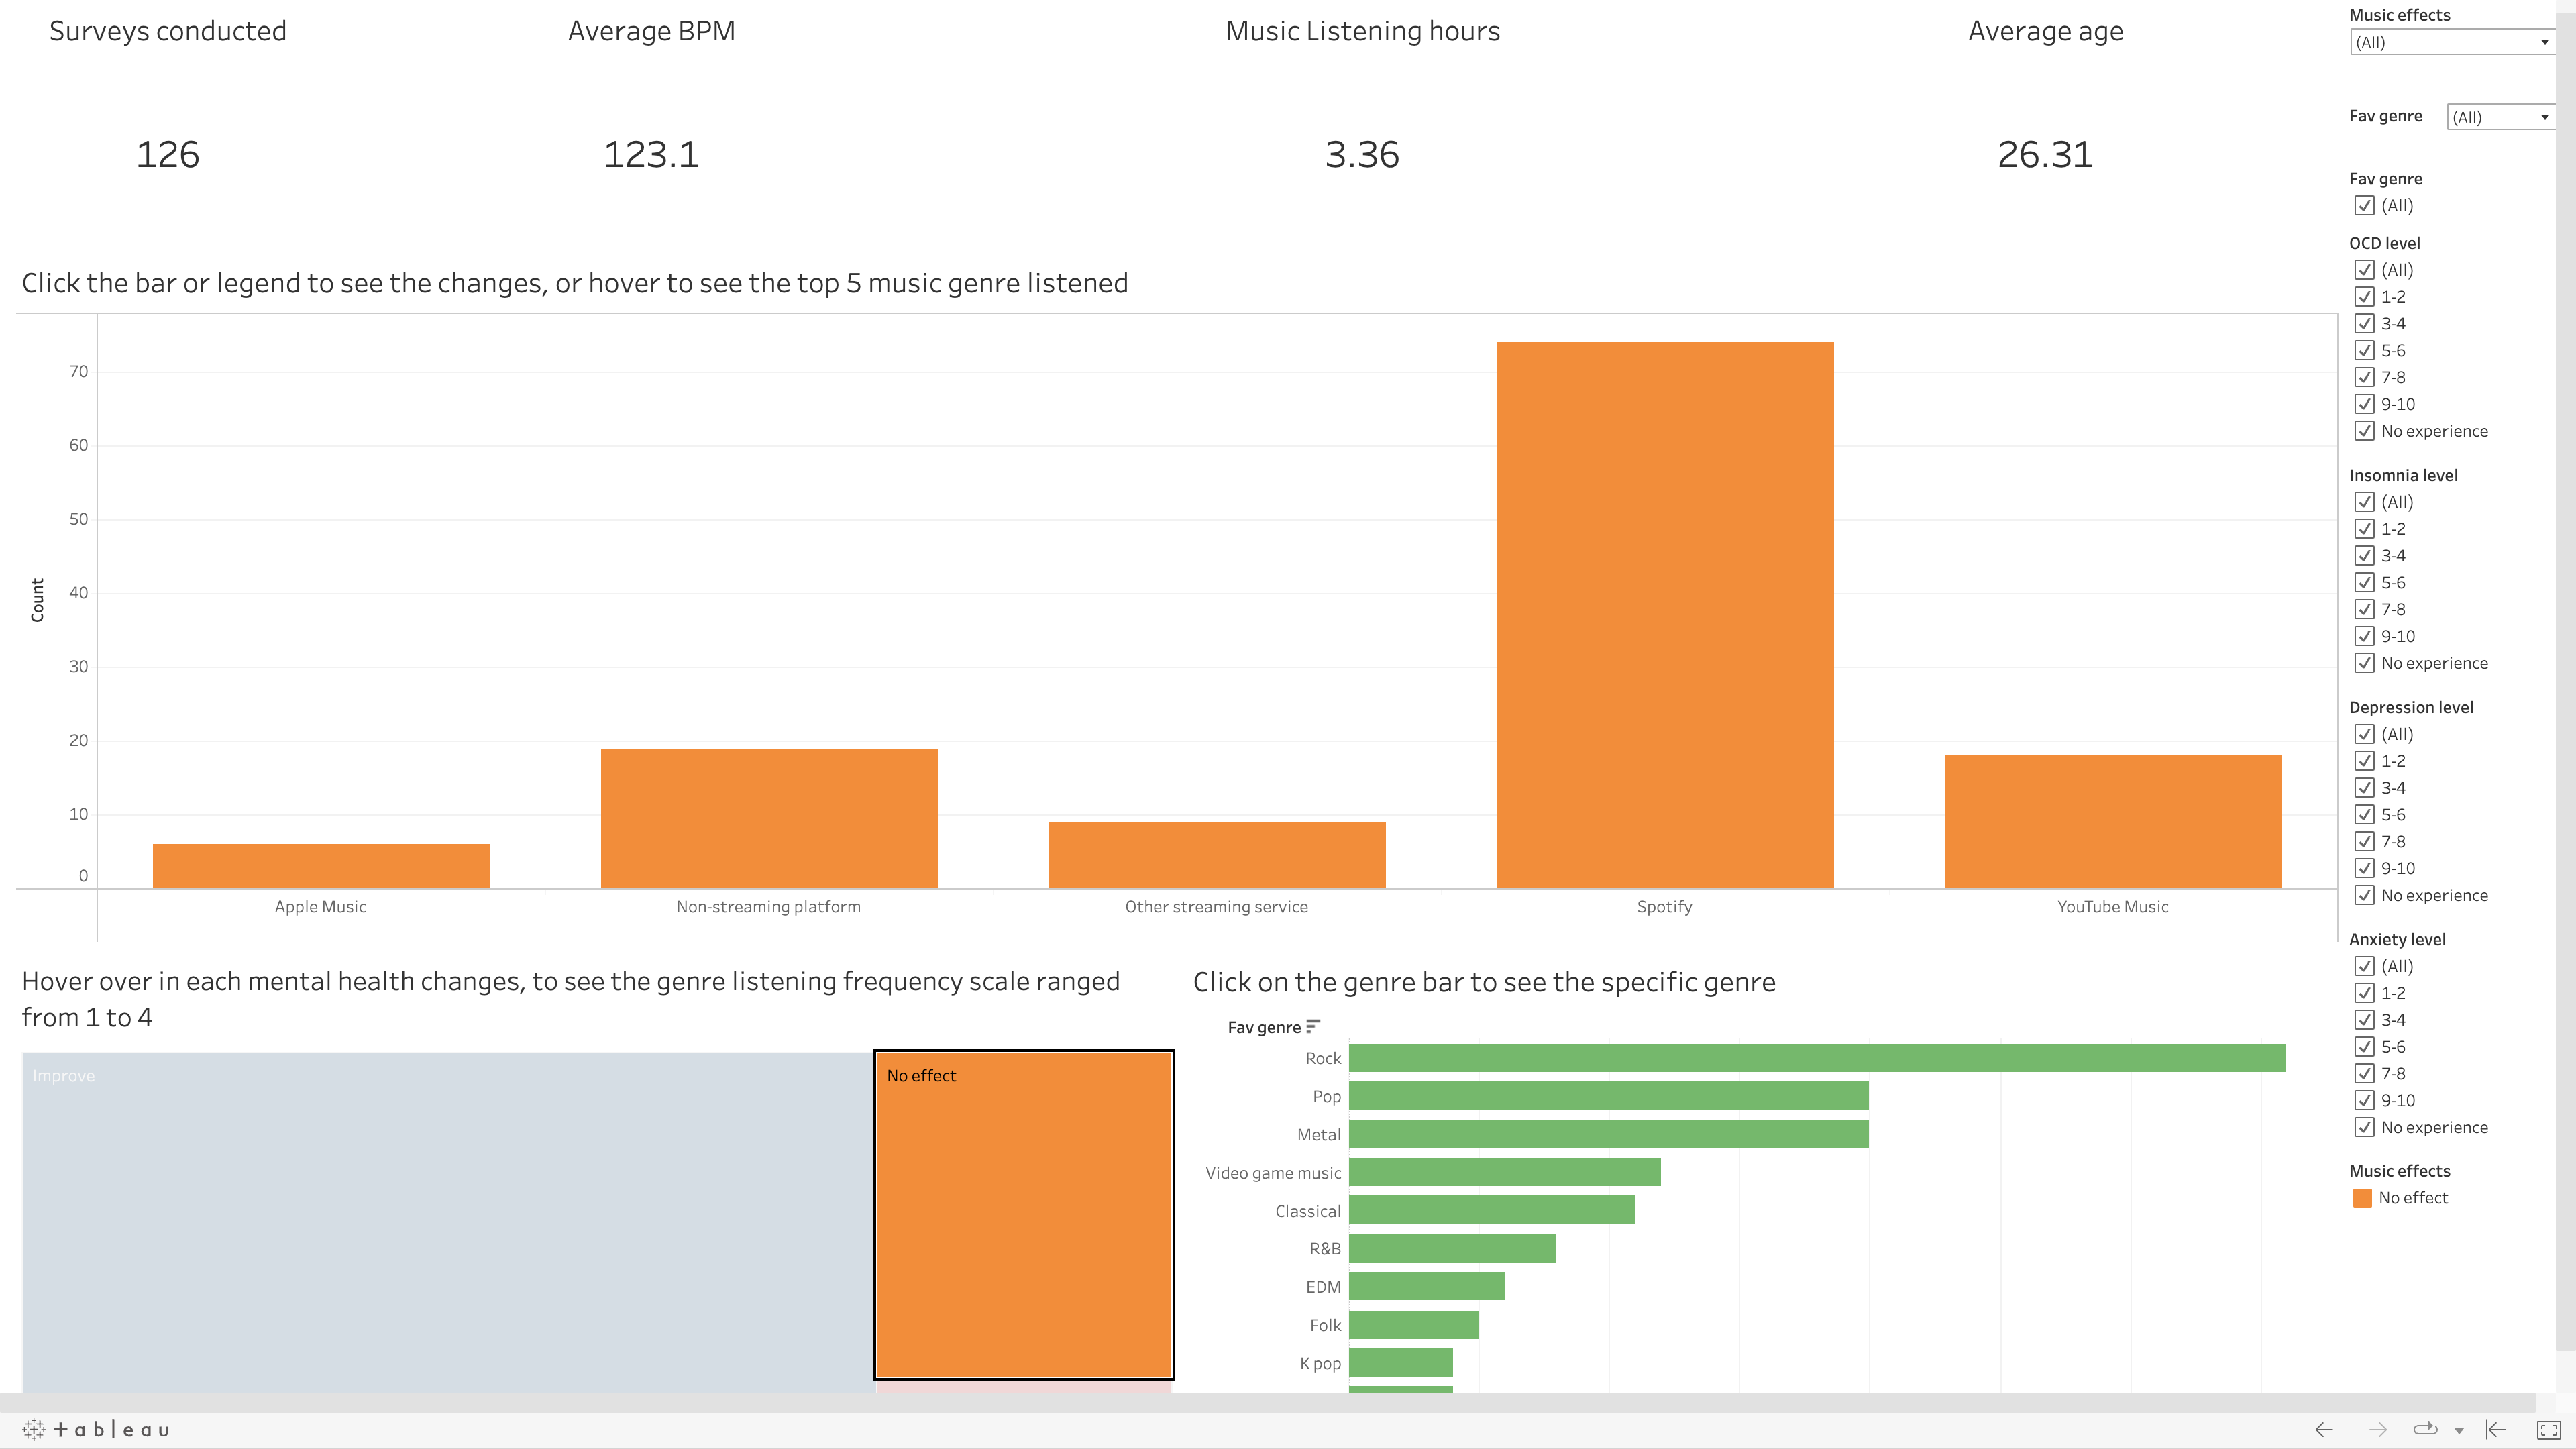

The page's visual inventory and layout, read from the dashboard file:
{"tool":"tableau","page":{"name":"Music dashboard","canvas":[1000,1000],"units":"permille","ordinal":0},"visuals":[{"type":"worksheet","title":"Surveys conducted","mark":"Automatic","box":[3.5,6.3,102.3,140.3]},{"type":"worksheet","title":"Average BPM","mark":"Automatic","box":[105.8,6.3,121,140.3]},{"type":"worksheet","title":"Music Listening hours","mark":"Automatic","box":[226.8,6.3,177.6,140.3]},{"type":"worksheet","title":"Average age","mark":"Automatic","box":[404.4,6.3,510,140.3]},{"type":"filter","title":"Listening frequency in each effect section","param":"[federated.1oci5pb0qlg0t219j3f3d1bt4whb].[none:Music effects:nk]","box":[914.4,6.3,82.1,48]},{"type":"filter","title":"Listening platform","param":"[federated.1oci5pb0qlg0t219j3f3d1bt4whb].[none:Fav genre:nk]","box":[914.4,54.3,82.1,48]},{"type":"filter","title":"Listening frequency in each effect section","param":"[federated.1oci5pb0qlg0t219j3f3d1bt4whb].[none:Calculation_859624622874152964:nk","box":[914.4,102.3,82.1,155]},{"type":"worksheet","title":"Listening platform","mark":"Automatic","rows":["Primary streaming service"],"cols":["Music effects","Primary streaming service"],"box":[3.5,146.6,910.9,459.1]},{"type":"legend","title":"Listening platform","param":"[federated.1oci5pb0qlg0t219j3f3d1bt4whb].[none:Music effects:nk]","box":[857.6,203,50.9,107]},{"type":"filter","title":"Listening frequency in each effect section","param":"[federated.1oci5pb0qlg0t219j3f3d1bt4whb].[none:Calculation_859624622873759747:nk","box":[914.4,257.3,82.1,155]},{"type":"filter","title":"Listening frequency in each effect section","param":"[federated.1oci5pb0qlg0t219j3f3d1bt4whb].[none:Calculation_859624622873341953:nk","box":[914.4,412.2,82.1,155]},{"type":"filter","title":"Listening frequency in each effect section","param":"[federated.1oci5pb0qlg0t219j3f3d1bt4whb].[none:Calculation_859624622870994944:nk","box":[914.4,567.2,82.1,155]},{"type":"worksheet","title":"Listening frequency in each effect section","mark":"Automatic","box":[3.5,605.7,910.9,388]}]}

Visuals, with their boxes on the dashboard's canvas, which has no fixed pixel size, in thousandths of its width and height (x1, y1, x2, y2). These are canvas units, not pixel positions in the 2576x1449 screenshot, which may show the page scaled, cropped or inside an application window:
"Surveys conducted" worksheet: [left=4, top=6, right=106, bottom=147]
"Average BPM" worksheet: [left=106, top=6, right=227, bottom=147]
"Music Listening hours" worksheet: [left=227, top=6, right=404, bottom=147]
"Average age" worksheet: [left=404, top=6, right=914, bottom=147]
"Listening frequency in each effect section" filter: [left=914, top=6, right=996, bottom=54]
"Listening platform" filter: [left=914, top=54, right=996, bottom=102]
"Listening frequency in each effect section" filter: [left=914, top=102, right=996, bottom=257]
"Listening platform" worksheet: [left=4, top=147, right=914, bottom=606]
"Listening platform" legend: [left=858, top=203, right=908, bottom=310]
"Listening frequency in each effect section" filter: [left=914, top=257, right=996, bottom=412]
"Listening frequency in each effect section" filter: [left=914, top=412, right=996, bottom=567]
"Listening frequency in each effect section" filter: [left=914, top=567, right=996, bottom=722]
"Listening frequency in each effect section" worksheet: [left=4, top=606, right=914, bottom=994]
